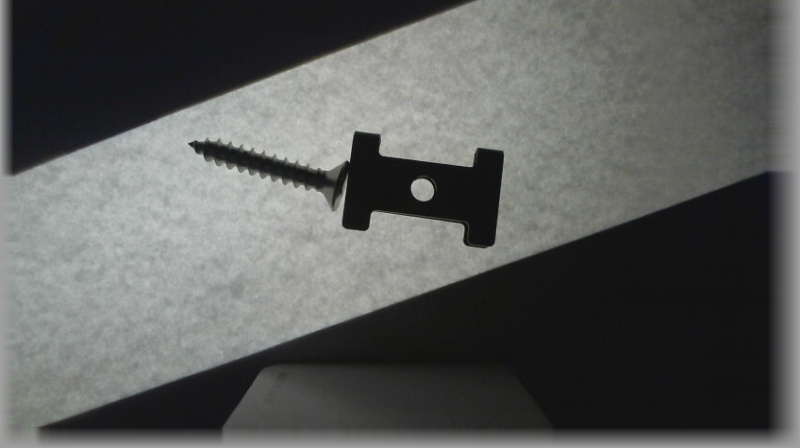O002: (341, 126, 506, 249)
S001: (185, 135, 352, 212)
